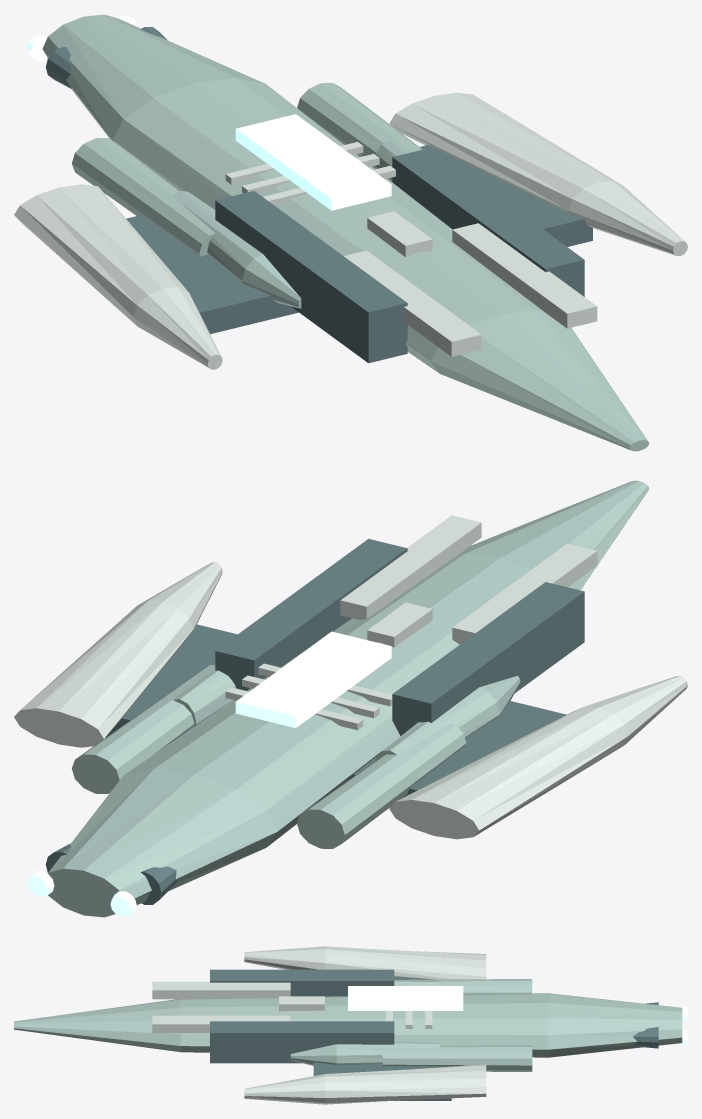
3 views of the same model, one above another, from view 1: azimuth 30°, elevation 25°; view 2: azimuth 150°, elevation 25°; view 3: azimuth 270°, elevation 25° (orthographic). The views are drawn at different scales.
Size of the model in its own units: 6.86 by 1.17 by 13.45.
